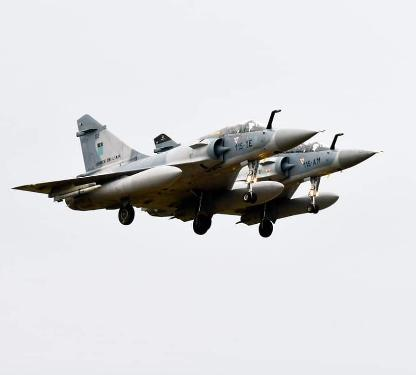Mirage2000: (11, 109, 326, 234), (141, 132, 383, 237)
